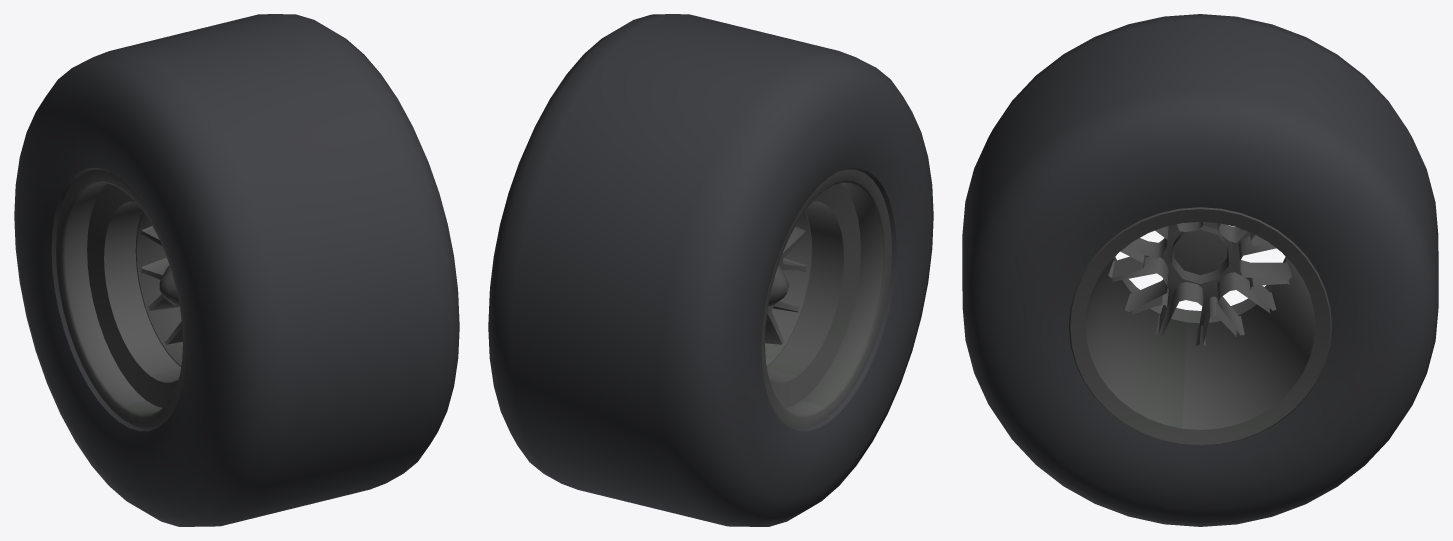
The model's file is RightRearWheel.obj.
3 renders of one model, left to right at view 1: azimuth 30°, elevation 25°; view 2: azimuth 150°, elevation 25°; view 3: azimuth 270°, elevation 25°, orthographic. The views are drawn at different scales.
Parts seen in each view (by area): view 1: object__48, object__47, object__18; view 2: object__48, object__47, object__18; view 3: object__47, object__48, object__18.
Part boxes in pixels (x1=…): object__48: x1=37, y1=14, x2=459, y2=526; object__47: x1=14, y1=79, x2=458, y2=516; object__18: x1=56, y1=169, x2=186, y2=428; object__48: x1=488, y1=14, x2=911, y2=526; object__47: x1=489, y1=79, x2=933, y2=516; object__18: x1=761, y1=169, x2=891, y2=428; object__47: x1=979, y1=122, x2=1421, y2=521; object__48: x1=962, y1=14, x2=1438, y2=526; object__18: x1=1068, y1=207, x2=1331, y2=445.
Bounding box in the file's own units: 0.3728 × 0.6438 × 0.6438.
